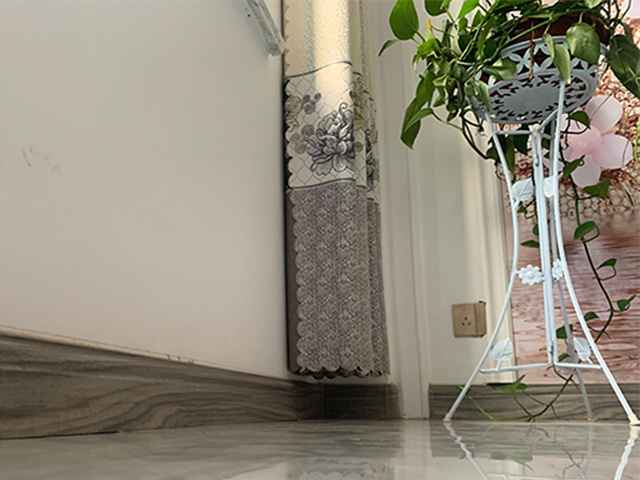curtain: (281, 1, 392, 379)
